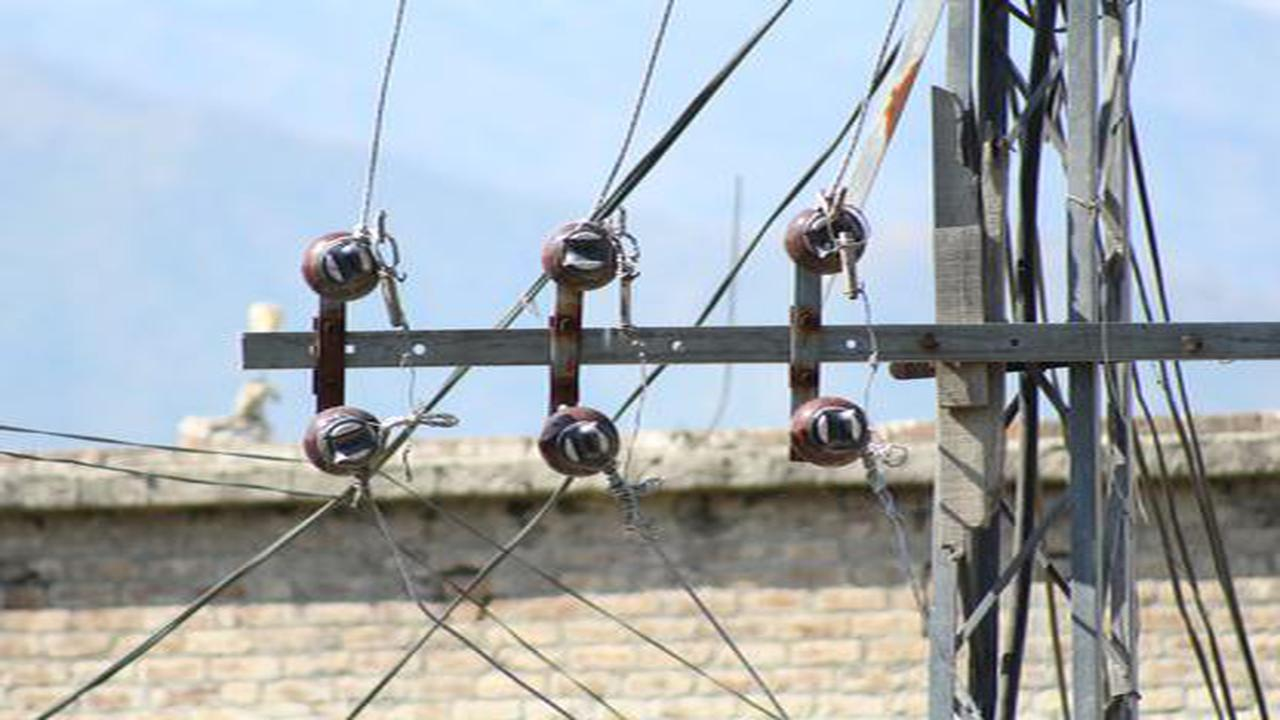insulator_pin: (787, 388, 877, 477), (781, 194, 872, 281), (531, 400, 623, 485), (537, 214, 631, 296), (296, 400, 385, 481), (297, 227, 391, 302)
